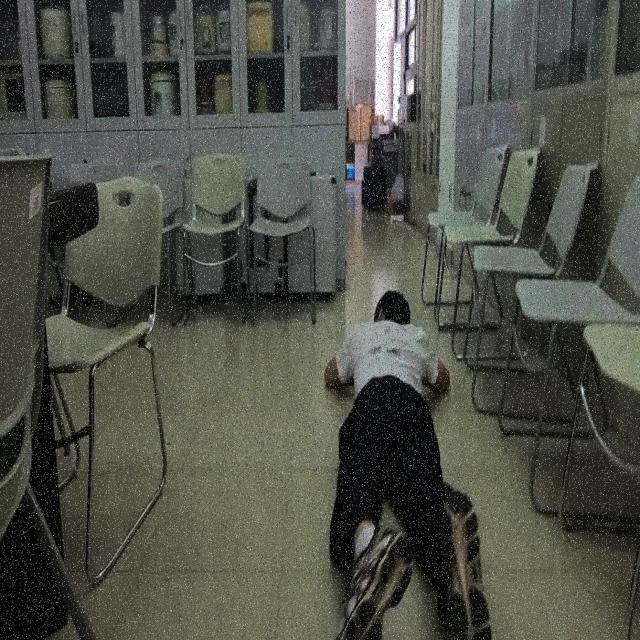fall: (321, 290, 494, 640)
